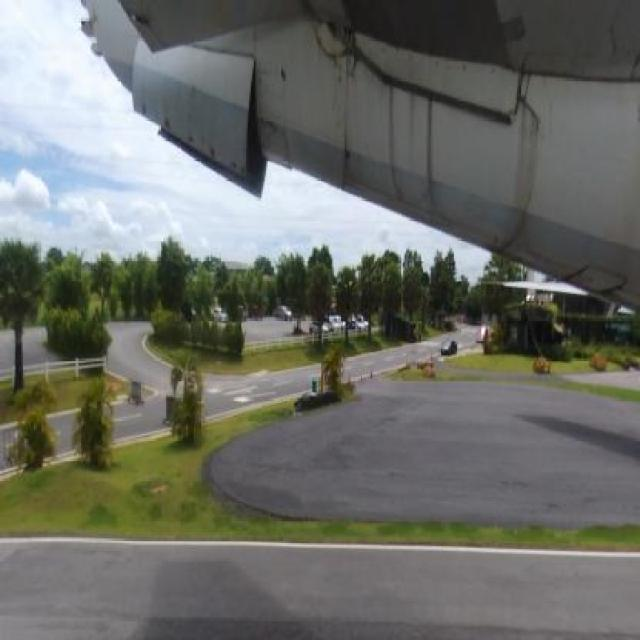Rust: (381, 74, 450, 228), (317, 16, 369, 195), (508, 81, 543, 270), (325, 48, 350, 128), (256, 114, 290, 169), (267, 60, 299, 106), (225, 152, 247, 182), (138, 98, 154, 122), (162, 113, 176, 136), (184, 128, 196, 149), (207, 141, 218, 162)
